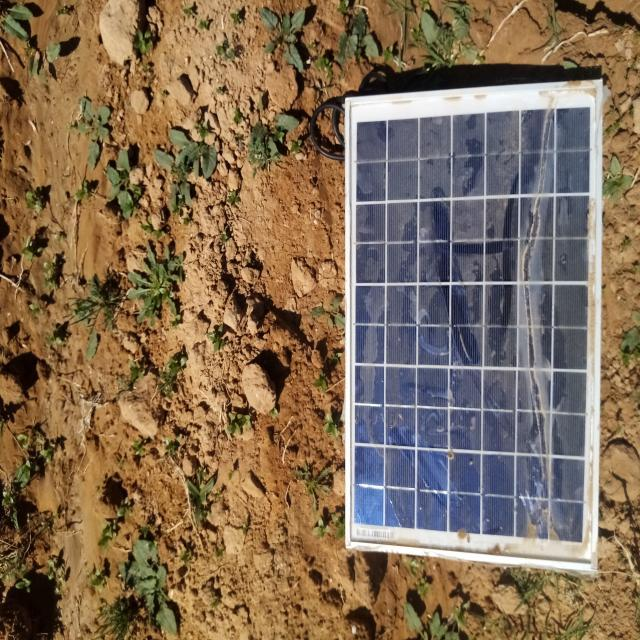faulty: (346, 84, 603, 576)
